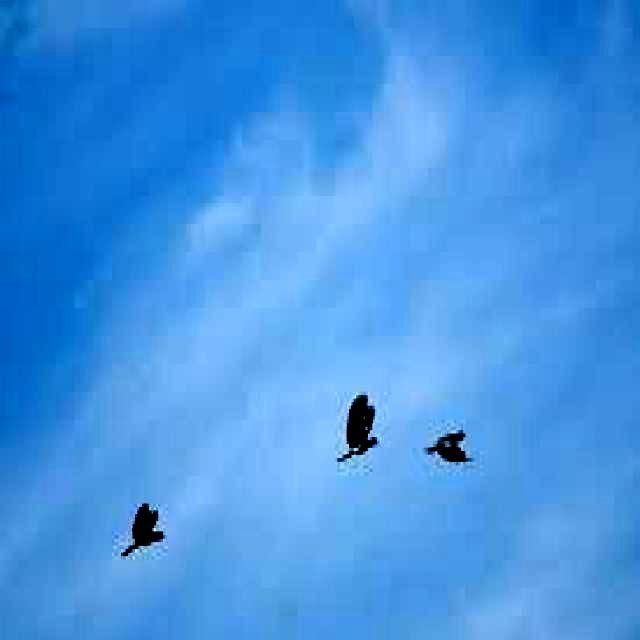bird: (326, 395, 398, 461), (113, 495, 171, 567), (424, 421, 474, 475)
